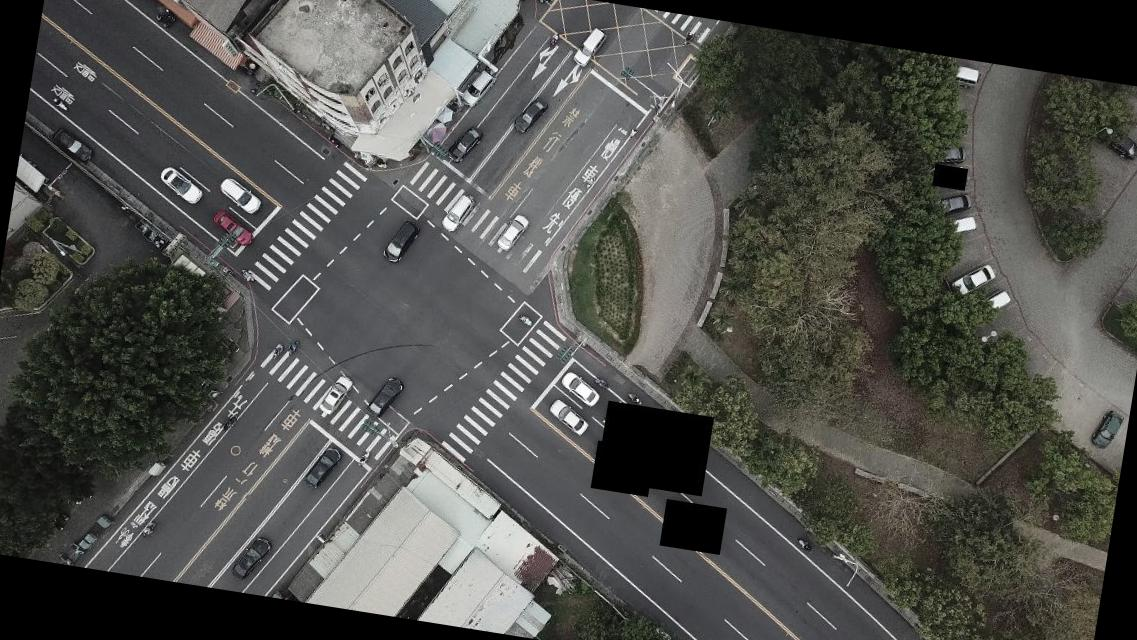vehicle: (228, 532, 273, 584), (364, 372, 406, 422), (156, 164, 206, 206), (301, 444, 342, 494), (380, 216, 420, 267), (215, 175, 264, 216), (949, 259, 997, 299), (208, 208, 256, 248), (48, 125, 96, 163), (546, 397, 592, 436), (445, 122, 484, 167), (558, 370, 604, 408), (458, 66, 497, 110), (1093, 124, 1136, 163), (438, 191, 476, 235), (318, 372, 354, 418), (571, 25, 608, 69), (1088, 408, 1124, 452), (495, 211, 530, 254), (513, 94, 548, 136), (934, 190, 973, 218), (931, 142, 969, 168), (981, 288, 1015, 314), (952, 62, 983, 90), (949, 212, 978, 238)
